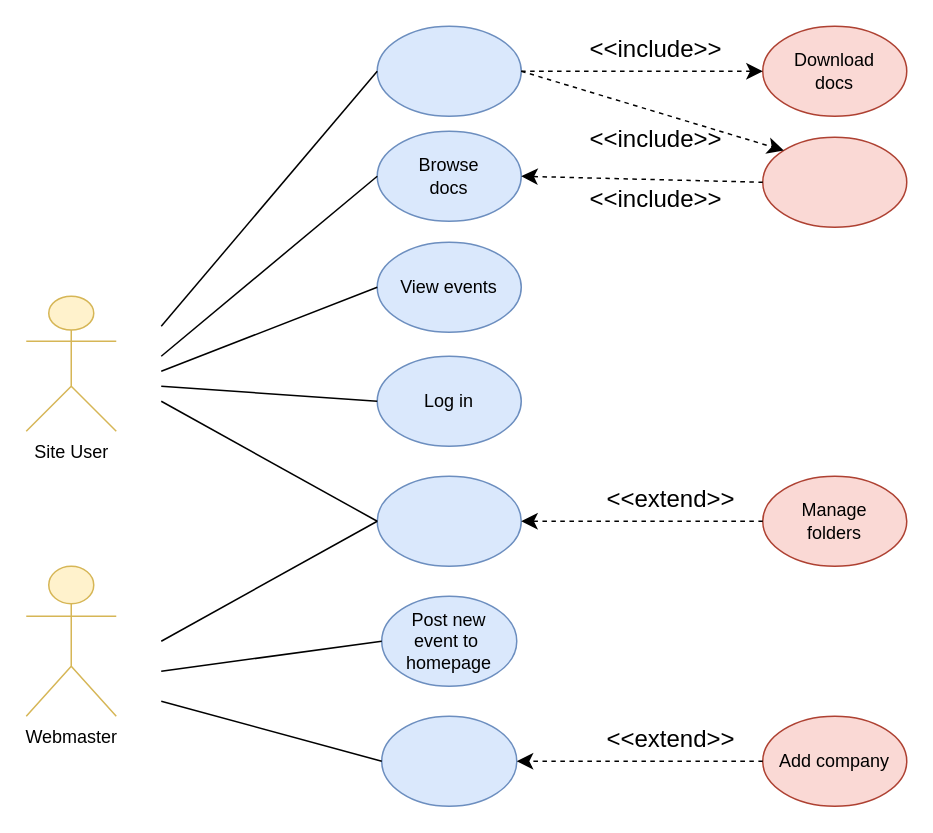
Image size: 933x833. Some labels were removed from this diagram. The shapes that lost their labels are listed below. From the top down, each one's centre as x and y in pixels, then its label:
At (x=448, y=70): "Search docs - full text".
At (x=834, y=181): "Preview doc".
At (x=448, y=520): "Upload docs".
At (x=448, y=760): "Add user".
